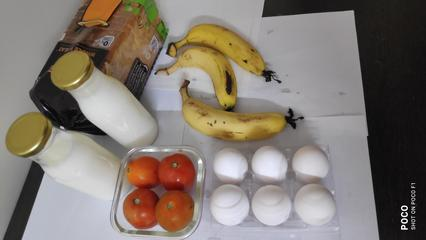banana: (178, 26, 283, 97), (187, 87, 312, 146)
bread: (41, 1, 168, 123)
eggs: (209, 137, 363, 221)
milk: (51, 48, 167, 146), (11, 118, 100, 186)
tomato: (117, 151, 200, 222)
